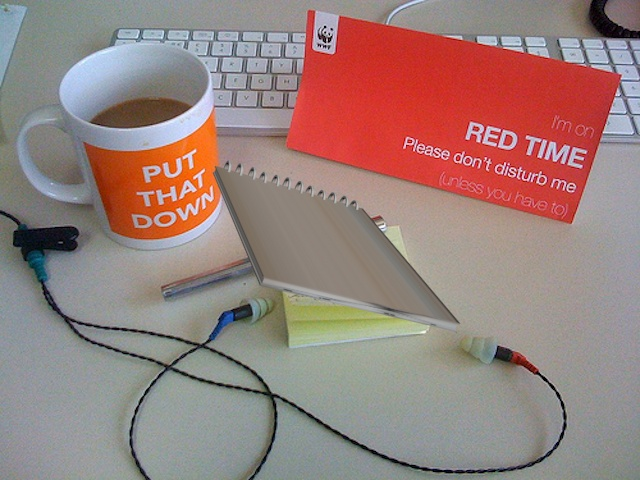paper_notebook: (209, 160, 464, 336)
